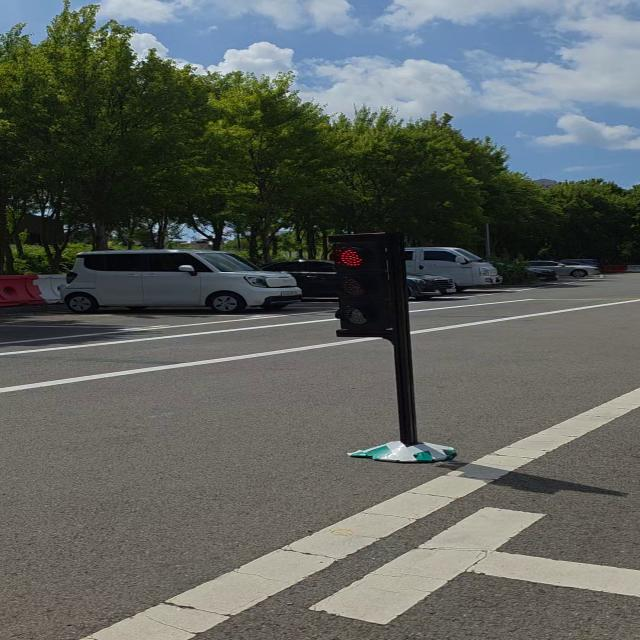red: (322, 227, 404, 339)
